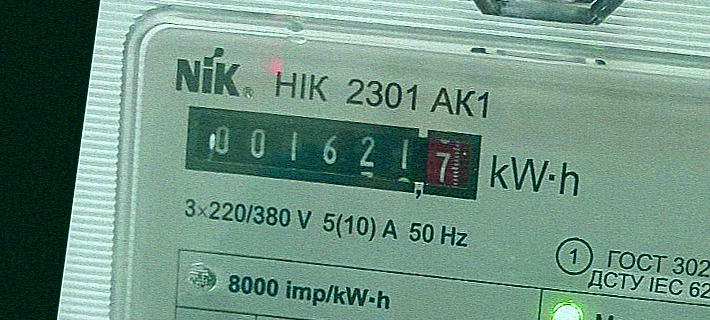0: (244, 122, 271, 161), (210, 119, 234, 155)
1: (395, 132, 414, 170), (284, 125, 303, 162)
2: (355, 130, 381, 169)
6: (318, 129, 342, 166)
7: (429, 146, 453, 184)
screen: (175, 91, 491, 212)
